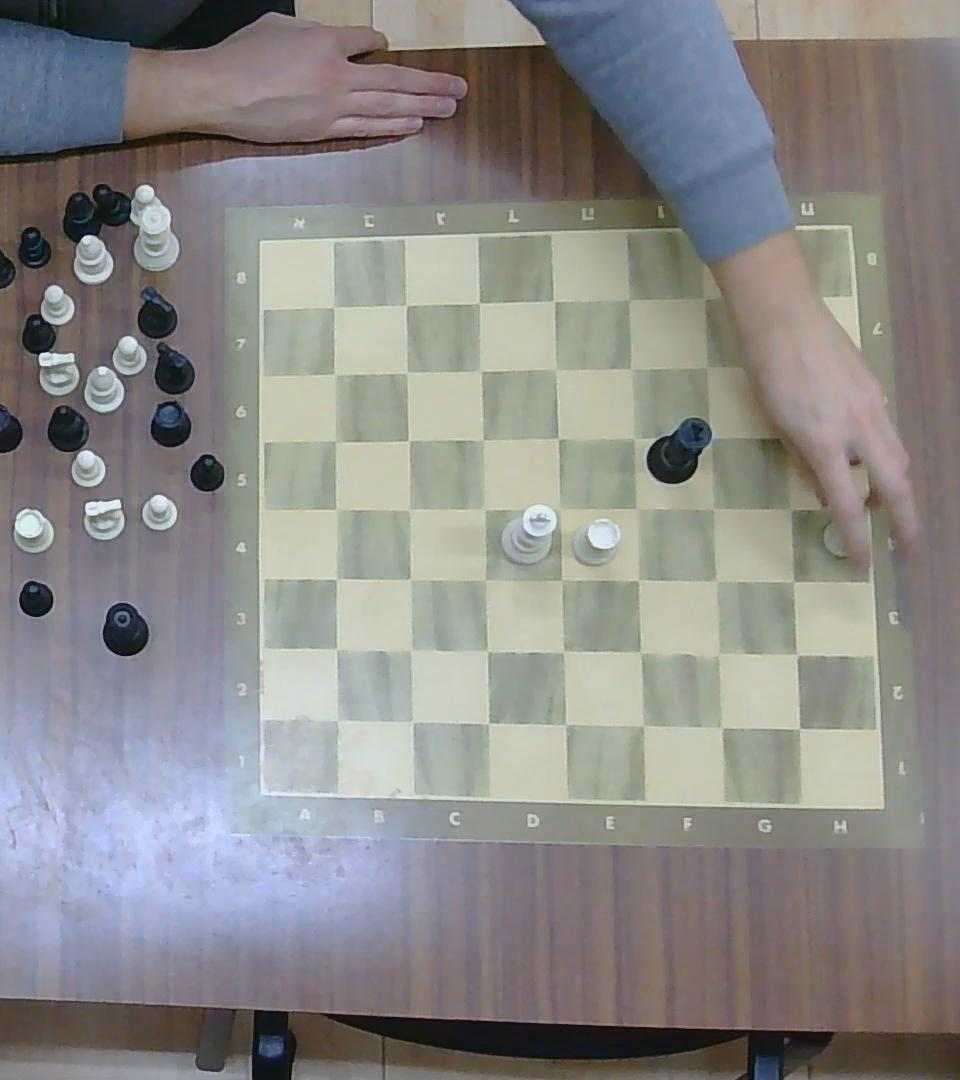xcorner: (702, 636, 734, 669), (471, 705, 502, 739), (777, 564, 809, 596), (548, 707, 579, 740), (705, 710, 736, 743), (626, 707, 657, 740), (625, 635, 656, 667), (781, 637, 812, 668), (783, 711, 813, 743), (397, 704, 427, 736), (321, 702, 351, 734), (548, 634, 578, 665), (470, 563, 500, 594), (615, 283, 645, 313), (471, 636, 501, 666), (539, 285, 569, 315), (623, 563, 652, 594), (548, 563, 577, 594), (465, 286, 494, 317), (766, 281, 795, 312), (691, 283, 720, 313), (317, 290, 346, 320), (395, 635, 424, 664), (469, 493, 498, 522), (701, 564, 730, 593), (391, 289, 420, 318), (321, 633, 350, 662), (778, 493, 806, 522), (543, 353, 571, 382), (466, 355, 495, 383), (700, 493, 728, 522), (322, 564, 350, 593), (619, 353, 647, 382), (467, 424, 495, 452), (322, 495, 350, 523), (394, 426, 422, 454), (693, 352, 722, 379), (770, 351, 797, 380), (545, 423, 573, 450), (395, 494, 423, 521), (395, 565, 423, 592), (624, 494, 652, 521), (699, 423, 727, 450), (545, 494, 573, 521), (773, 420, 799, 447), (320, 360, 348, 385), (322, 427, 348, 453), (393, 358, 420, 383), (622, 424, 648, 449)
